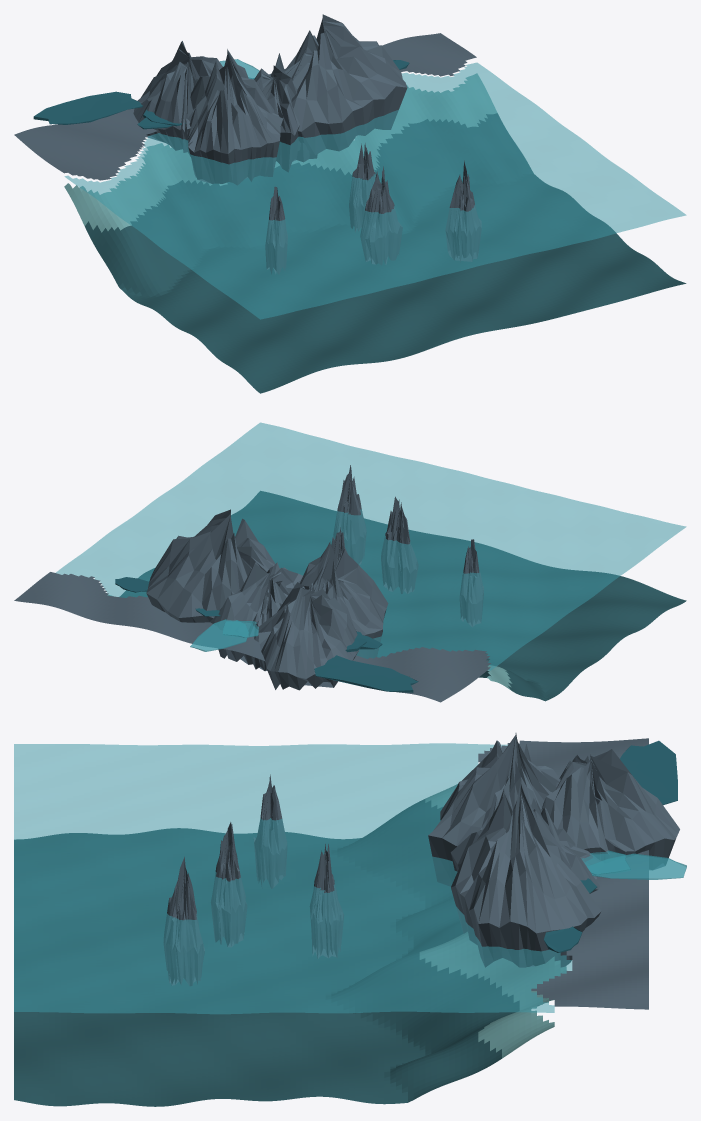
File: water_tile_07.glb
The picture shows the model from 3 angles, top to bottom: view 1: azimuth 30°, elevation 25°; view 2: azimuth 150°, elevation 25°; view 3: azimuth 270°, elevation 25°; orthographic projection. The views are drawn at different scales.
Parts seen in each view (by area): view 1: submerged mineral riverbed.007, glacial water surface 07, angular fractured shoreline ledge.079, visible shallow mineral shelves.007, angular fractured shoreline ledge.077, single continuous dark slate shoreline.007, angular fractured shoreline ledge.076, underwater worn boulder.028, angular fractured shoreline ledge.078, underwater worn boulder.027, erosion water finger above land.099, underwater worn boulder.025 (+1 smaller); view 2: glacial water surface 07, submerged mineral riverbed.007, single continuous dark slate shoreline.007, angular fractured shoreline ledge.079, angular fractured shoreline ledge.076, angular fractured shoreline ledge.077, angular fractured shoreline ledge.078, underwater worn boulder.028, erosion water finger above land.099, underwater worn boulder.027, underwater worn boulder.025, isolated flooded rock depression.038 (+1 smaller); view 3: glacial water surface 07, submerged mineral riverbed.007, angular fractured shoreline ledge.079, single continuous dark slate shoreline.007, angular fractured shoreline ledge.076, angular fractured shoreline ledge.077, visible shallow mineral shelves.007, underwater worn boulder.027, underwater worn boulder.028, underwater worn boulder.026, underwater worn boulder.025, erosion water finger above land.099 (+4 smaller).
Part boxes in pixels (x1,y1,x2,y2): submerged mineral riverbed.007: (85,113,686,393); glacial water surface 07: (64,62,686,319); angular fractured shoreline ledge.079: (267,14,407,154); visible shallow mineral shelves.007: (64,73,497,232); angular fractured shoreline ledge.077: (187,49,283,185); single continuous dark slate shoreline.007: (14,33,476,180); angular fractured shoreline ledge.076: (133,41,222,153); underwater worn boulder.028: (360,166,402,265); angular fractured shoreline ledge.078: (254,53,317,172); underwater worn boulder.027: (445,160,481,262); erosion water finger above land.099: (33,91,142,124); underwater worn boulder.025: (265,186,287,274); glacial water surface 07: (56,422,686,670); submerged mineral riverbed.007: (119,491,686,701); single continuous dark slate shoreline.007: (14,572,490,702); angular fractured shoreline ledge.079: (146,509,280,622); angular fractured shoreline ledge.076: (258,582,358,690); angular fractured shoreline ledge.077: (299,541,388,658); angular fractured shoreline ledge.078: (210,561,302,671); underwater worn boulder.028: (381,496,418,593); erosion water finger above land.099: (314,655,418,692); underwater worn boulder.027: (333,465,366,564); underwater worn boulder.025: (459,539,483,626); isolated flooded rock depression.038: (190,619,248,651); glacial water surface 07: (14,743,572,1014); submerged mineral riverbed.007: (14,799,519,1106); angular fractured shoreline ledge.079: (451,781,601,967); single continuous dark slate shoreline.007: (478,738,648,1009); angular fractured shoreline ledge.076: (541,749,679,869); angular fractured shoreline ledge.077: (428,733,560,886); visible shallow mineral shelves.007: (419,784,566,1058); underwater worn boulder.027: (163,856,204,986); underwater worn boulder.028: (211,822,247,947); underwater worn boulder.026: (309,844,344,958); underwater worn boulder.025: (253,774,287,888); erosion water finger above land.099: (620,740,677,805).
Bounding box in the file's own units: 1 × 0.3857 × 1.06.
